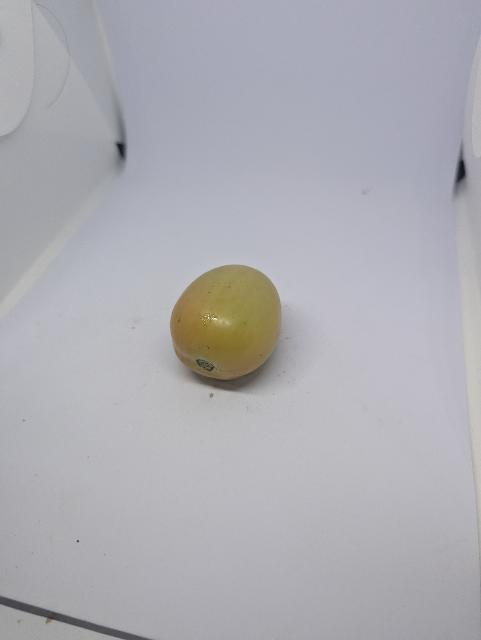breaker: (171, 265, 282, 380)
